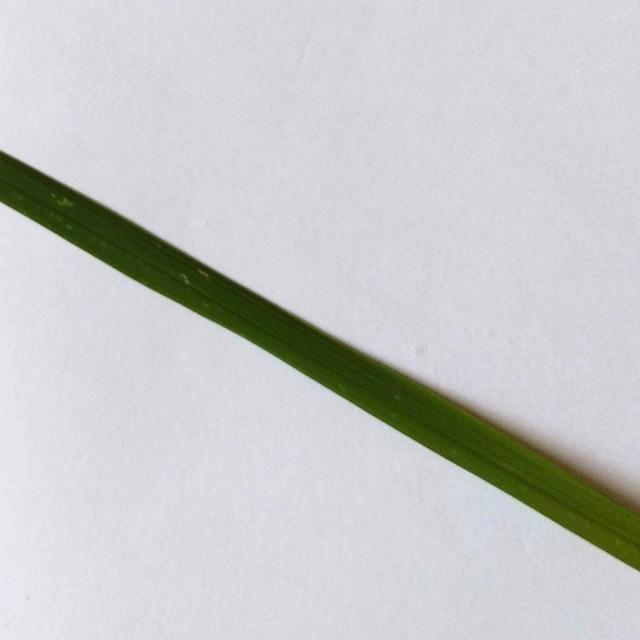healthy: (0, 122, 640, 575)
